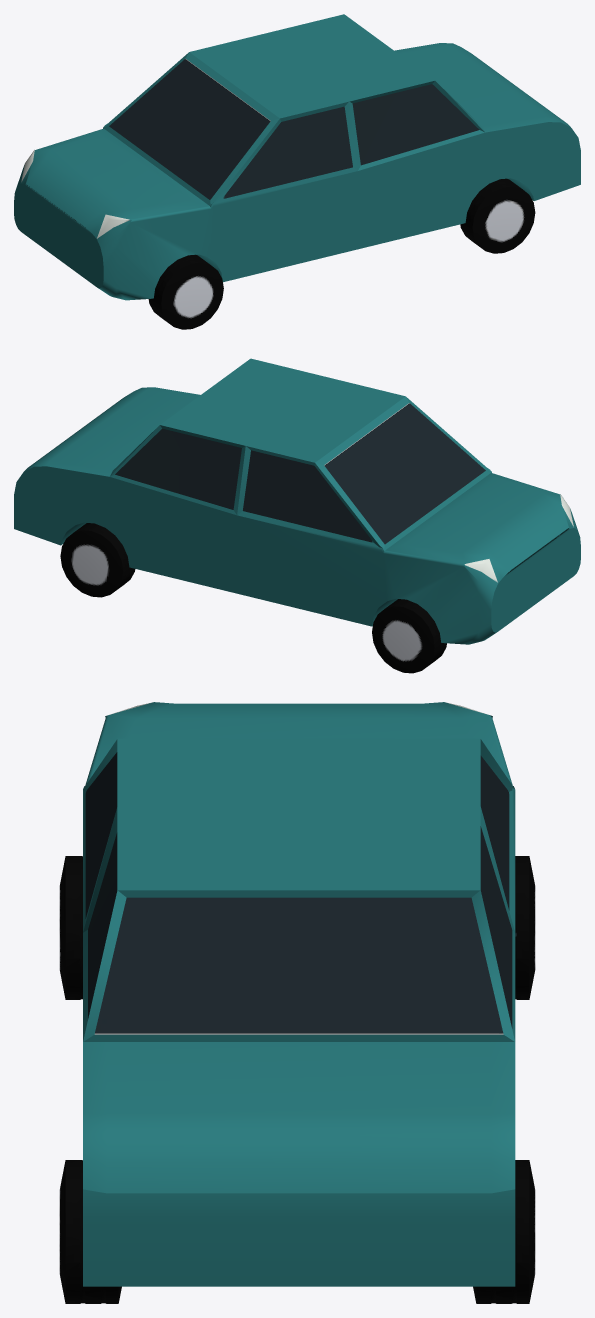
File: TealCar.fbx
3 renders of one model, top to bottom at view 1: azimuth 30°, elevation 25°; view 2: azimuth 150°, elevation 25°; view 3: azimuth 270°, elevation 25°, orthographic. The views are drawn at different scales.
Visible parts, largest first — view 1: UVMapCar:RoadKillOut; view 2: UVMapCar:RoadKillOut; view 3: UVMapCar:RoadKillOut.
Part boxes in pixels (bbox=[...]): UVMapCar:RoadKillOut: bbox=[14, 14, 580, 329]; UVMapCar:RoadKillOut: bbox=[14, 358, 580, 673]; UVMapCar:RoadKillOut: bbox=[59, 702, 535, 1303].
Size of the model in its own units: 7.82 by 2.8 by 3.42.
